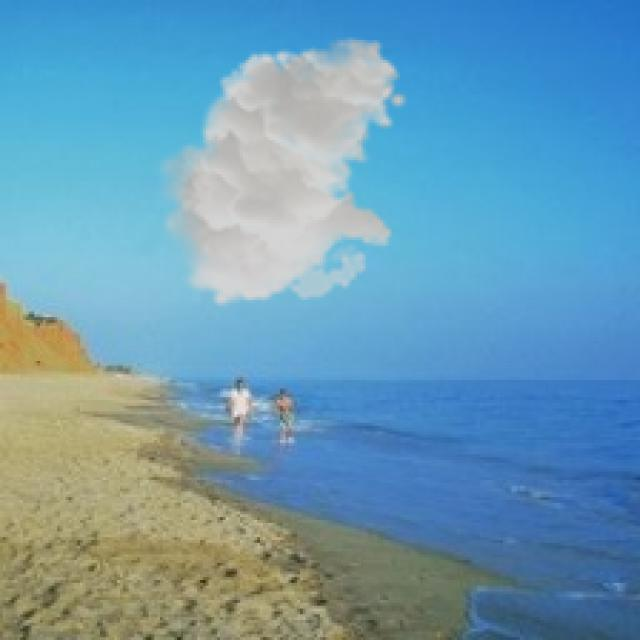smoke: (152, 37, 408, 309)
